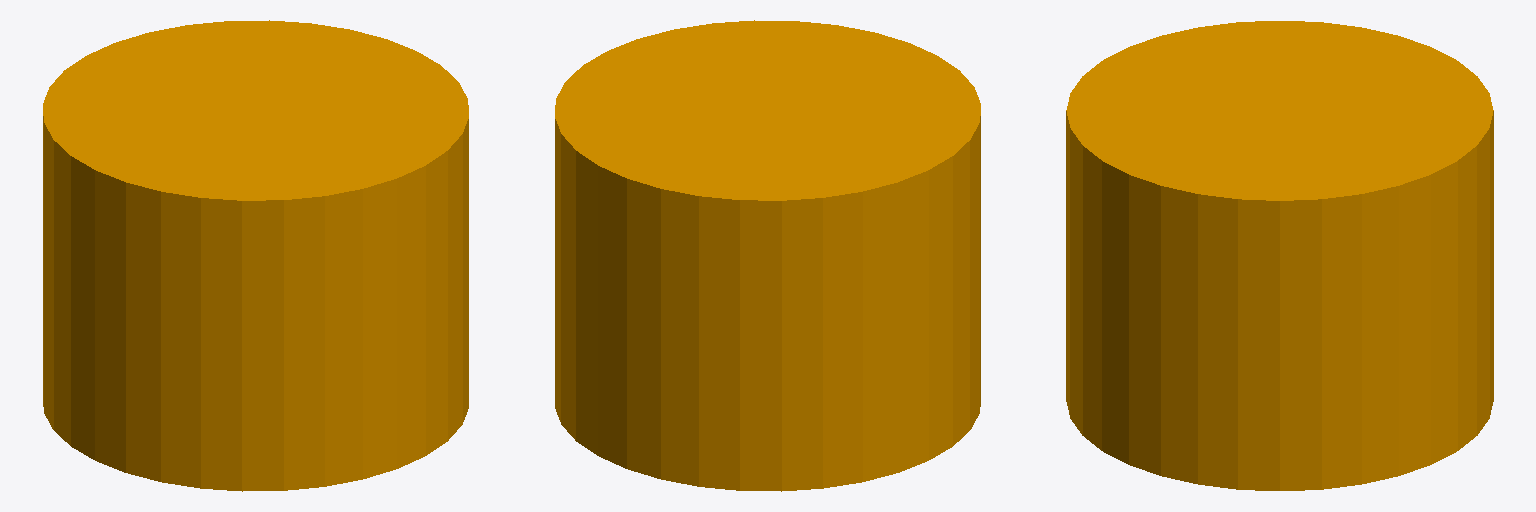
The robot description file, URDF, robot "root":
<robot name="root">
  <link name="link_original">
    <visual>
      <origin xyz="0 0 0" rpy="0 0 0"/>
      <geometry>
        <mesh filename="cylinder_xlarge.stl" scale="1 1 1"/>
      </geometry>
    </visual>
    <collision>
      <origin xyz="0 0 0" rpy="0 0 0"/>
      <geometry>
        <mesh filename="coacd_allinone.obj" scale="1 1 1"/>
      </geometry>
    </collision>
  </link>
</robot>

--- What the picture shows (computed from the rendered views, not written in the file) ---
The picture shows the robot from 3 angles, left to right: view 1: azimuth 30°, elevation 25°; view 2: azimuth 150°, elevation 25°; view 3: azimuth 270°, elevation 25°; orthographic projection.
Model root with 1 links and 0 joints (none), rooted at link_original, posed all joints at 0.
Visible links, largest first — view 1: link_original; view 2: link_original; view 3: link_original.
Link boxes in pixels (x1,y1,x2,y2): link_original: (43, 20, 468, 491); link_original: (555, 20, 980, 491); link_original: (1066, 21, 1493, 490).
Size in the robot's own frame: 0.24 by 0.24 by 0.18 metres.
1 mesh visuals loaded from 1 distinct referenced files (1 binary STL).
